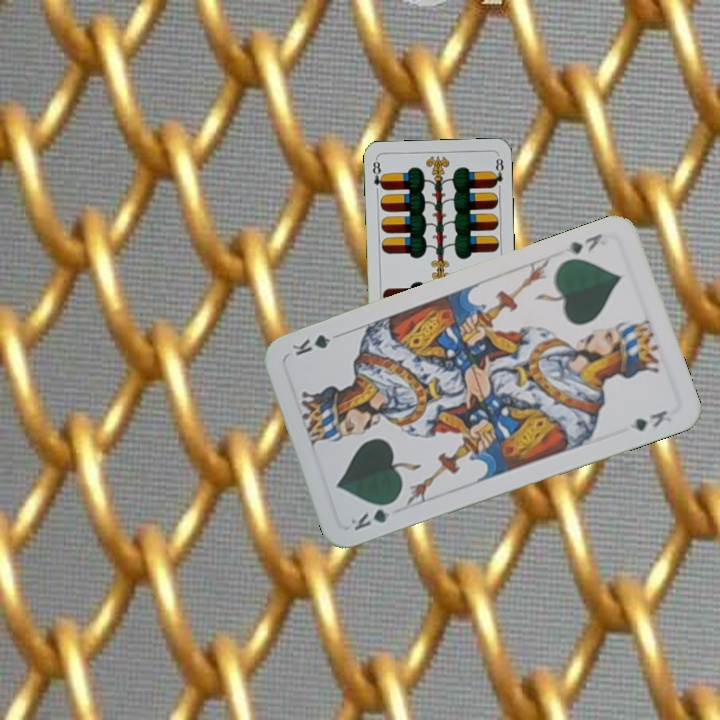E8: (368, 157, 387, 192)
GK: (346, 497, 400, 534), (561, 229, 605, 257)
